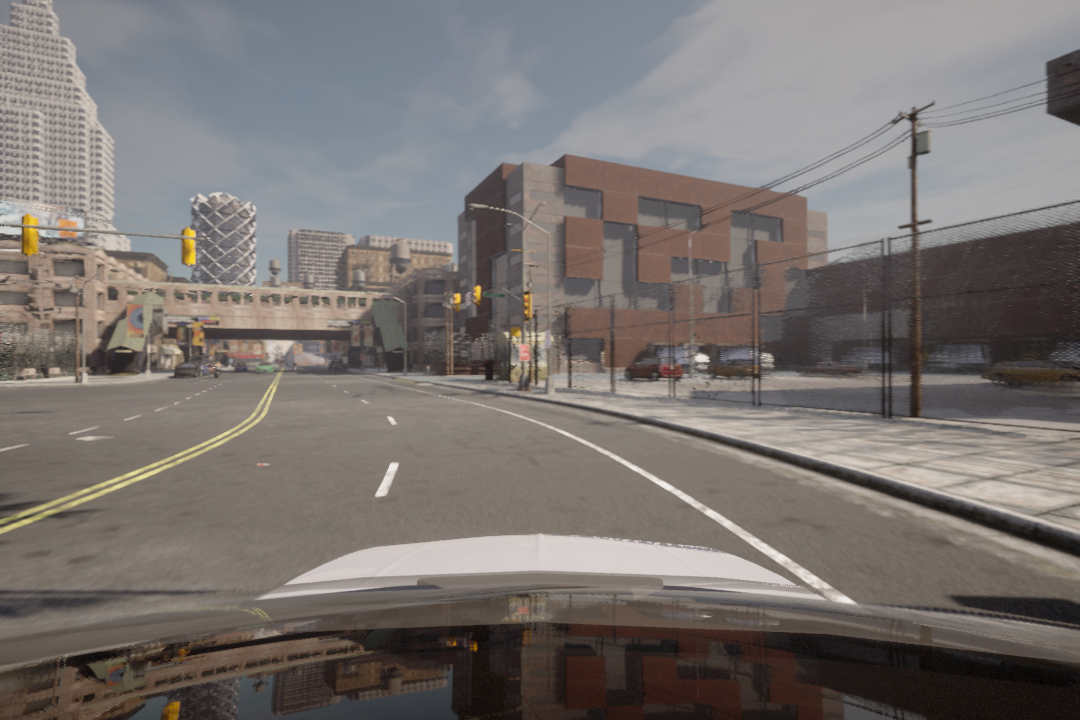TrafficLight: (523, 292, 533, 319), (451, 292, 461, 312), (471, 285, 479, 304)
